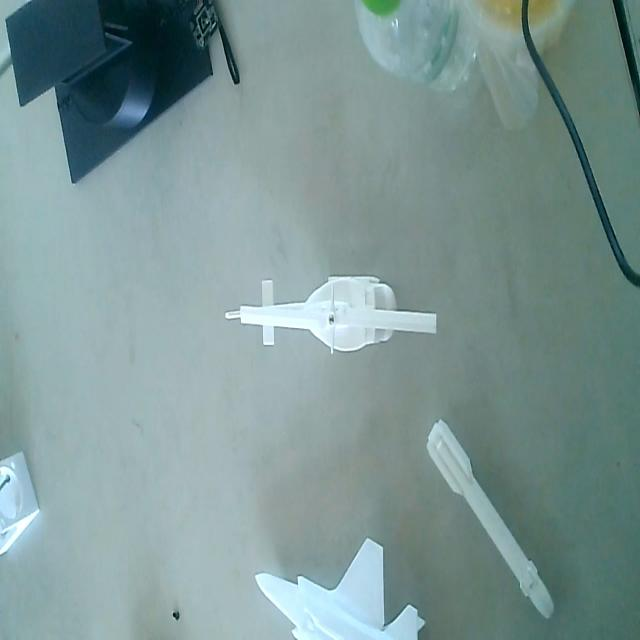Helicopter: (225, 274, 439, 364)
Rocket: (425, 408, 555, 625)
